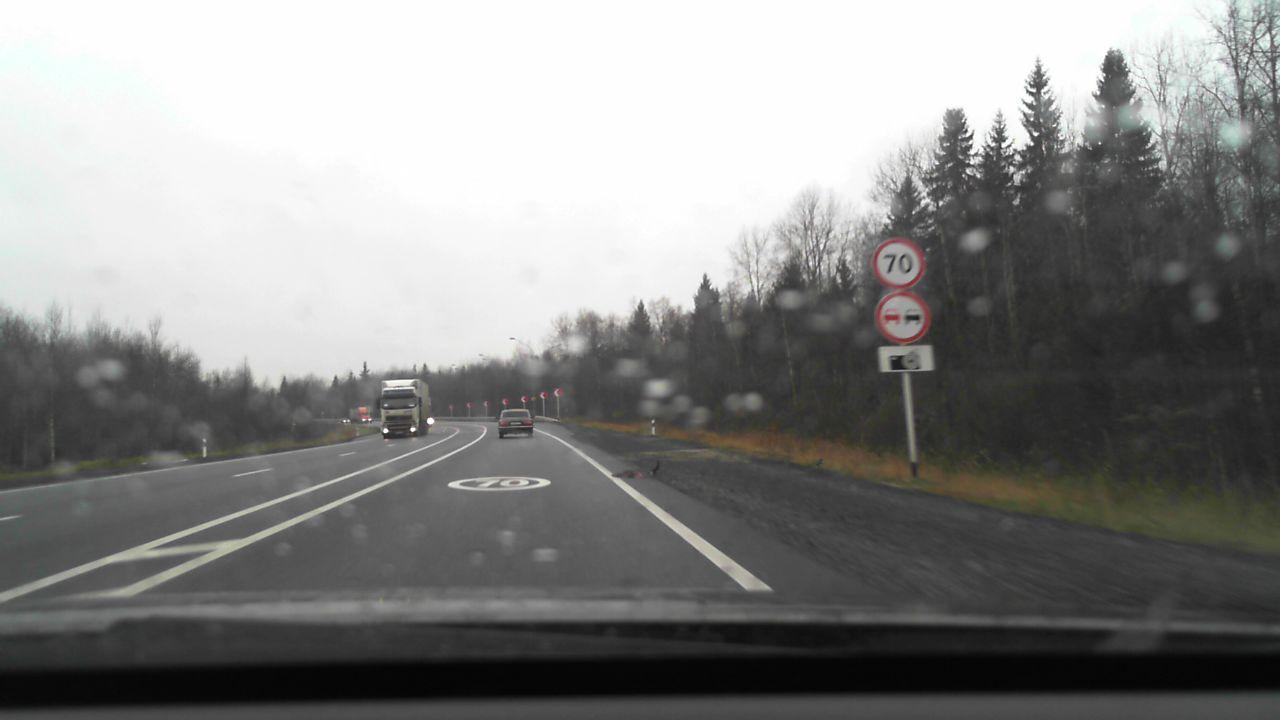1_34_2: (554, 388, 562, 398), (540, 391, 548, 400), (483, 400, 490, 408), (502, 398, 509, 406), (521, 395, 528, 402), (466, 402, 472, 408), (448, 404, 453, 408)
3_20: (873, 292, 931, 342)
3_24: (873, 237, 927, 288)
8_23: (878, 346, 934, 372)
